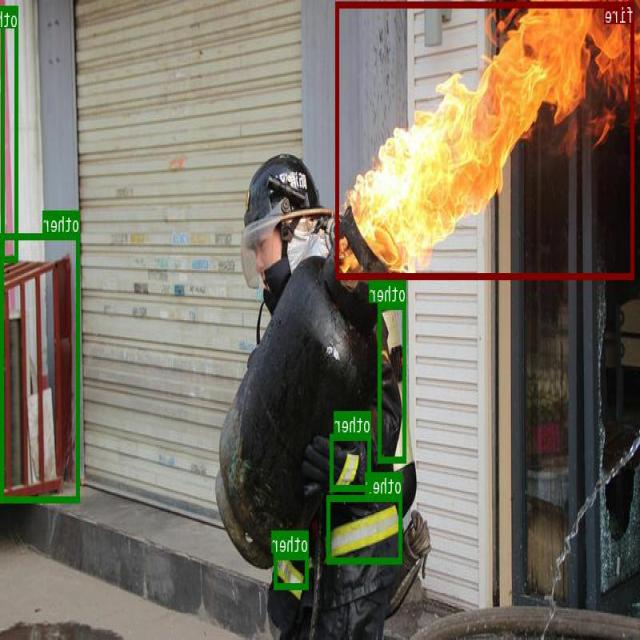fire: (337, 0, 635, 278)
other: (1, 232, 80, 501), (327, 494, 403, 563), (379, 302, 407, 462), (2, 5, 19, 261), (331, 433, 372, 490), (275, 552, 309, 588)
